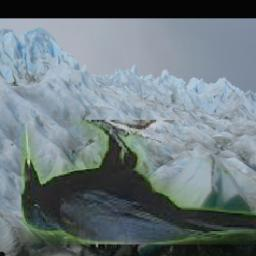Crow: (20, 121, 256, 245)
